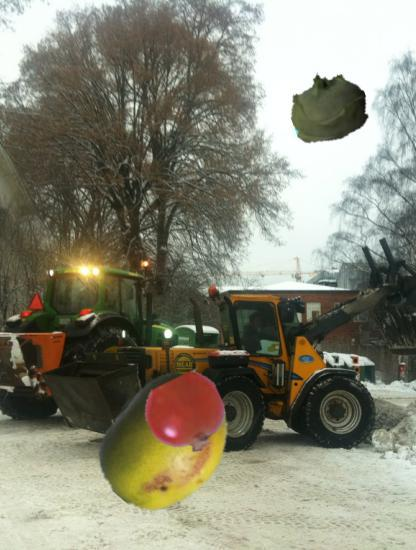Kohlrabi: (289, 67, 368, 146)
Pomelo: (95, 372, 238, 515)
Redcurrant: (147, 375, 228, 456)
